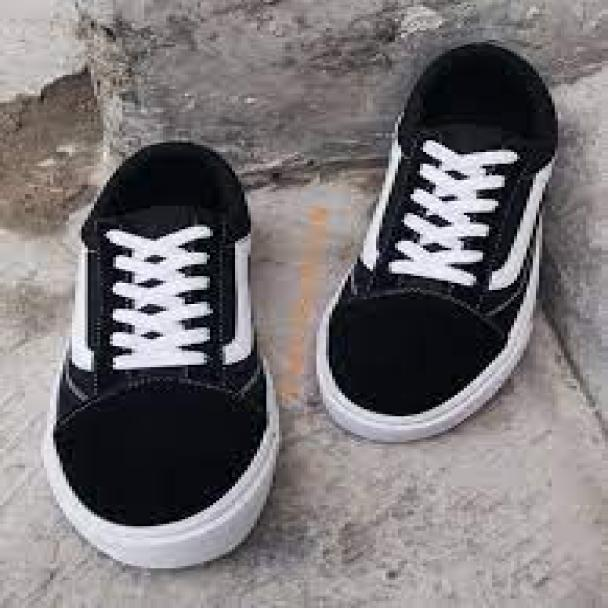Sepatu: (318, 36, 556, 449), (51, 140, 274, 579)
